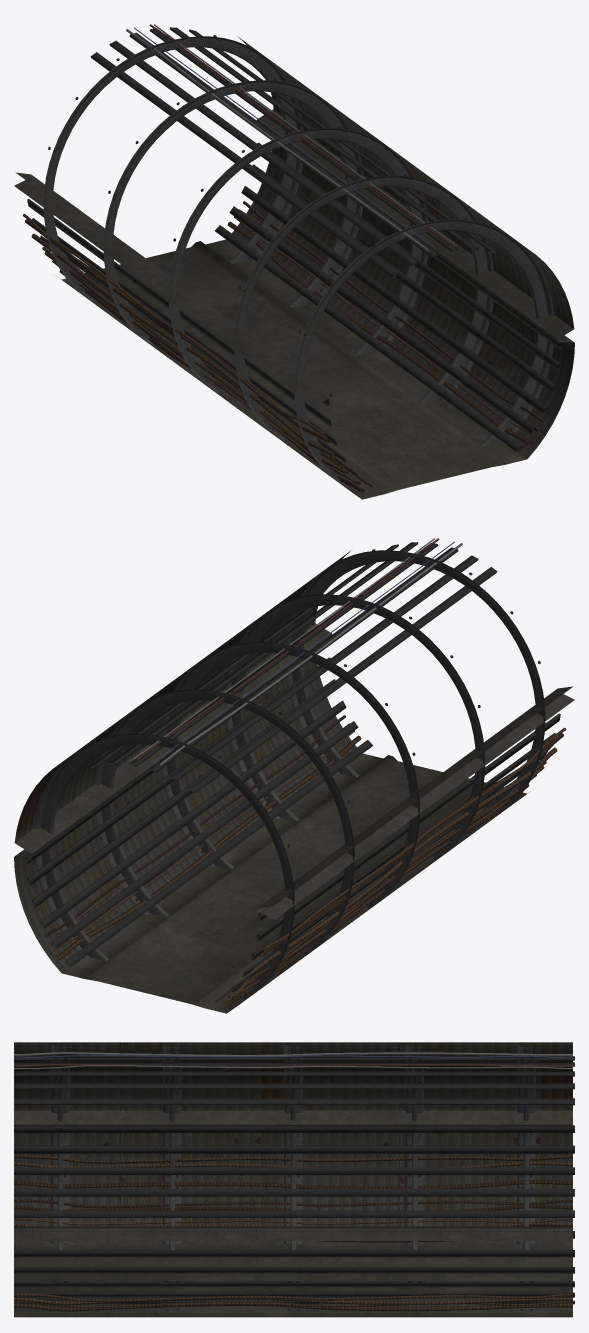
File: tunnel_1.fbx
3 renders of one model, top to bottom at view 1: azimuth 30°, elevation 25°; view 2: azimuth 150°, elevation 25°; view 3: azimuth 270°, elevation 25°, orthographic. The views are drawn at different scales.
Parts seen in each view (by area): view 1: tunnel_1; view 2: tunnel_1; view 3: tunnel_1.
Boxes of the visible parts, x1,y1,x2,y2 form: tunnel_1: (14,24,574,499); tunnel_1: (14,538,574,1013); tunnel_1: (14,1042,574,1317).
Size of the model in its own units: 300 by 270 by 602.
